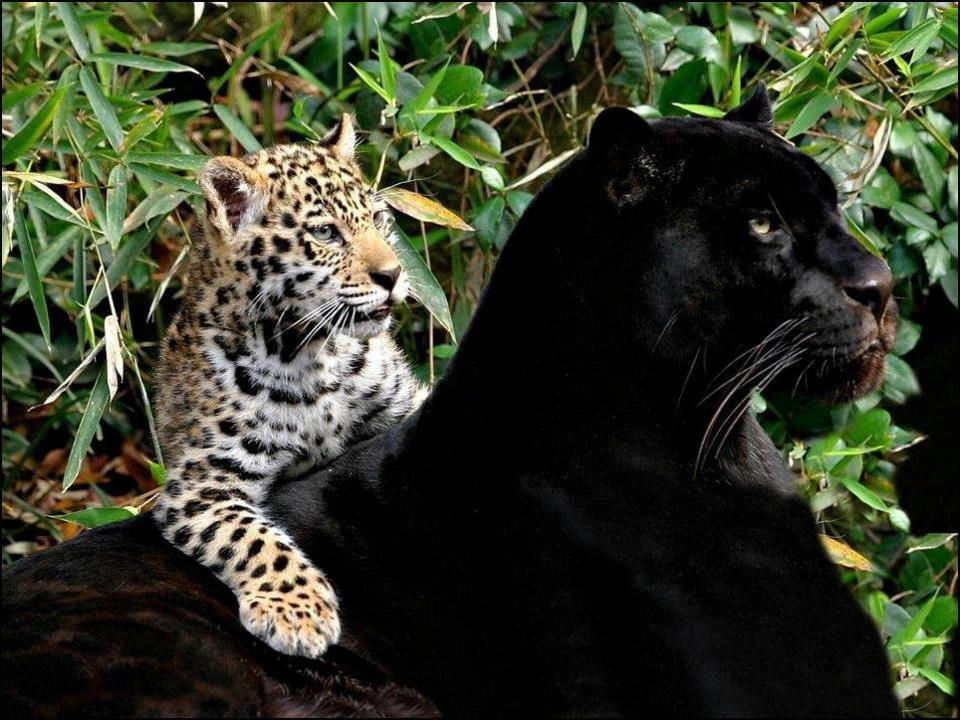leopard: (151, 109, 425, 655)
panther: (2, 81, 906, 720)
